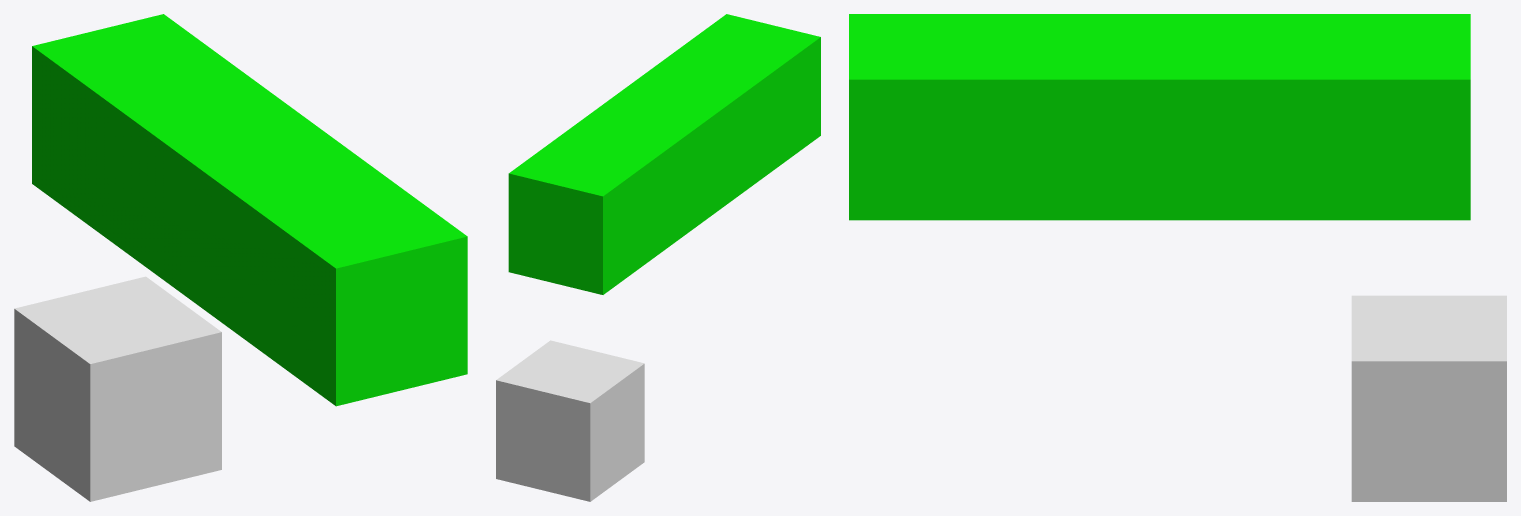
3 renders of one model, left to right at view 1: azimuth 30°, elevation 25°; view 2: azimuth 150°, elevation 25°; view 3: azimuth 270°, elevation 25°, orthographic. The views are drawn at different scales.
Size of the model in its own units: 0.005 by 0.015 by 0.0212.
